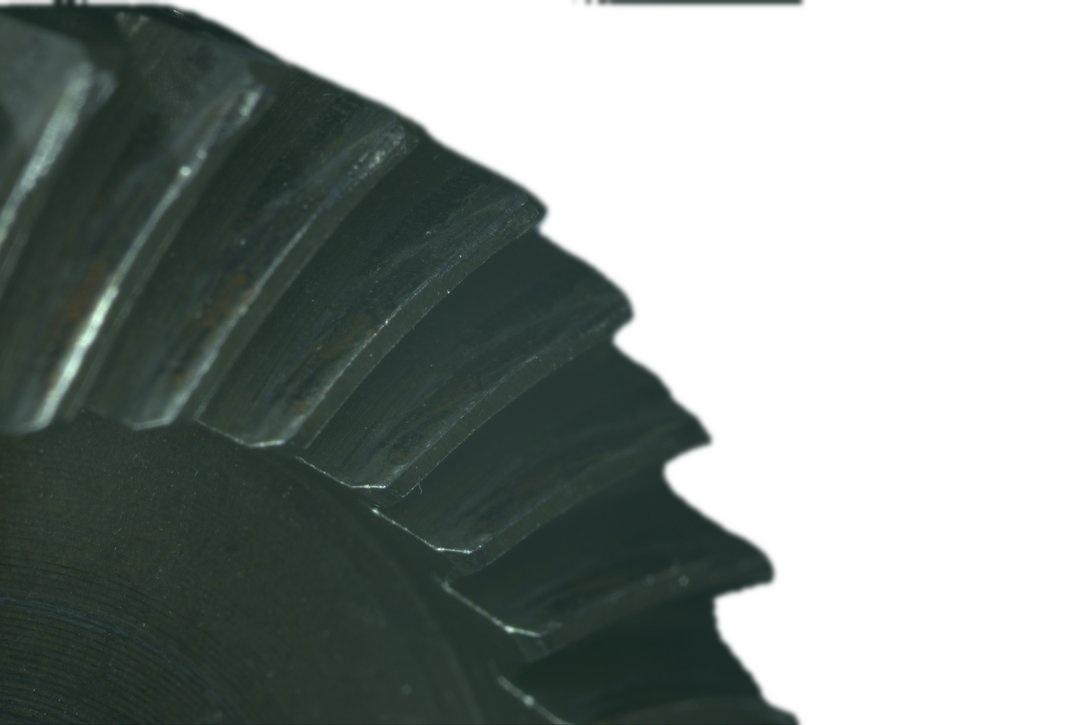defect: (23, 64, 116, 174), (172, 78, 269, 172), (439, 177, 541, 240), (336, 113, 416, 183)
